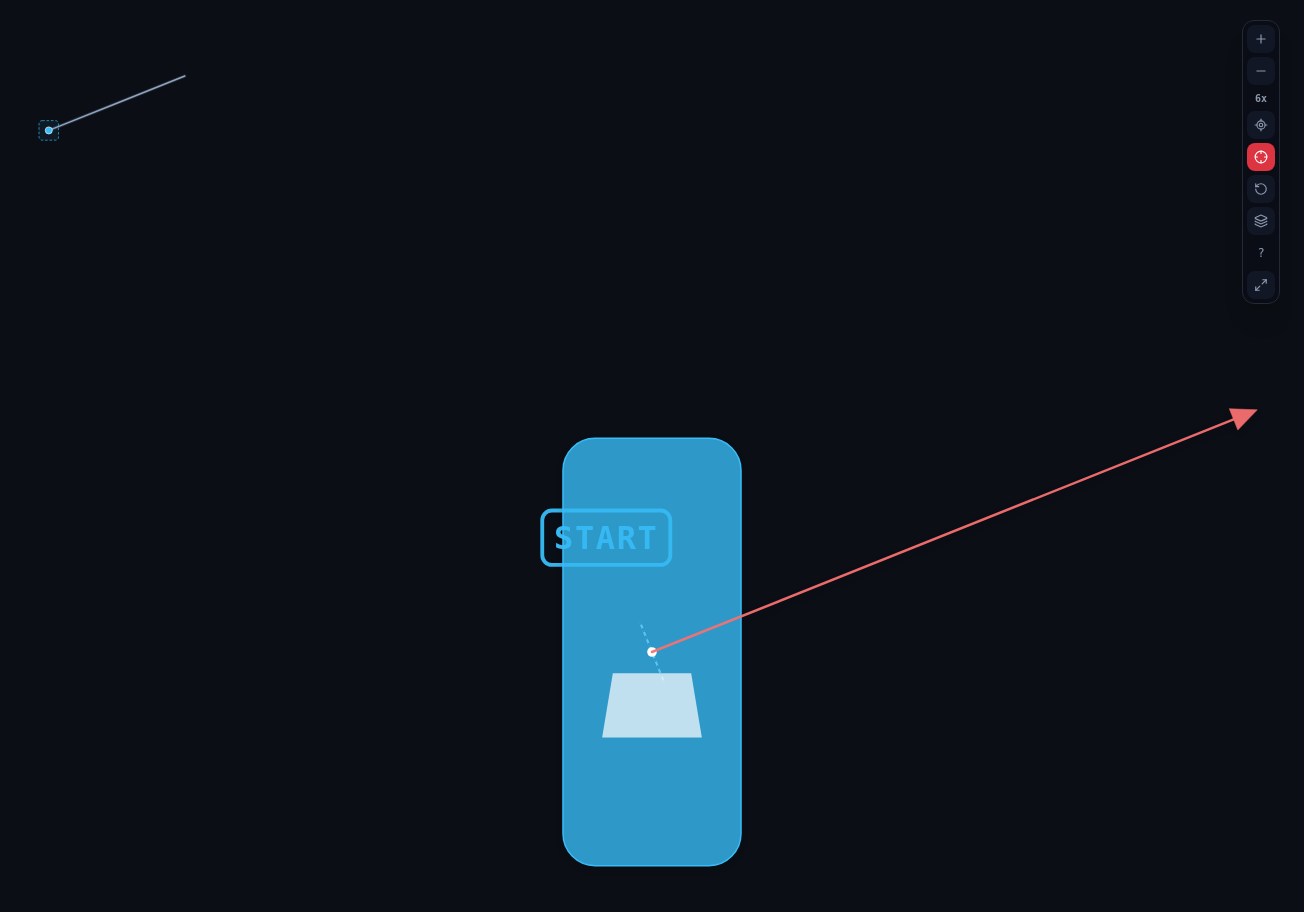
Test: GPS map display layers › keys only the runoff kinds the layout has
The image size is (1304, 912).
Click the button named "Layers": x=1261, y=221 1247,207 -> 1275,235
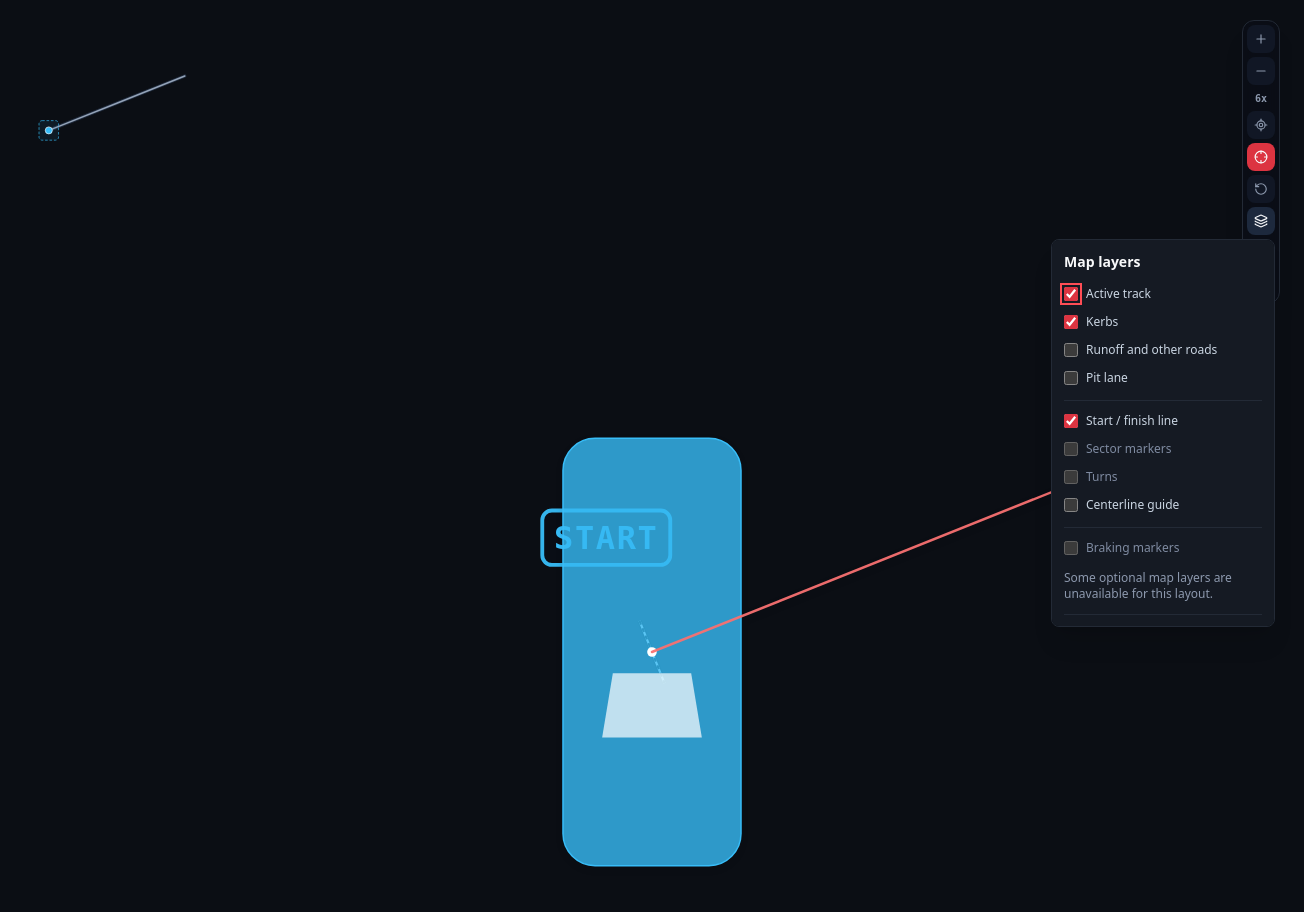
Click the checkbox labelled "Runoff and other roads": x=1071, y=350 1064,343 -> 1078,357
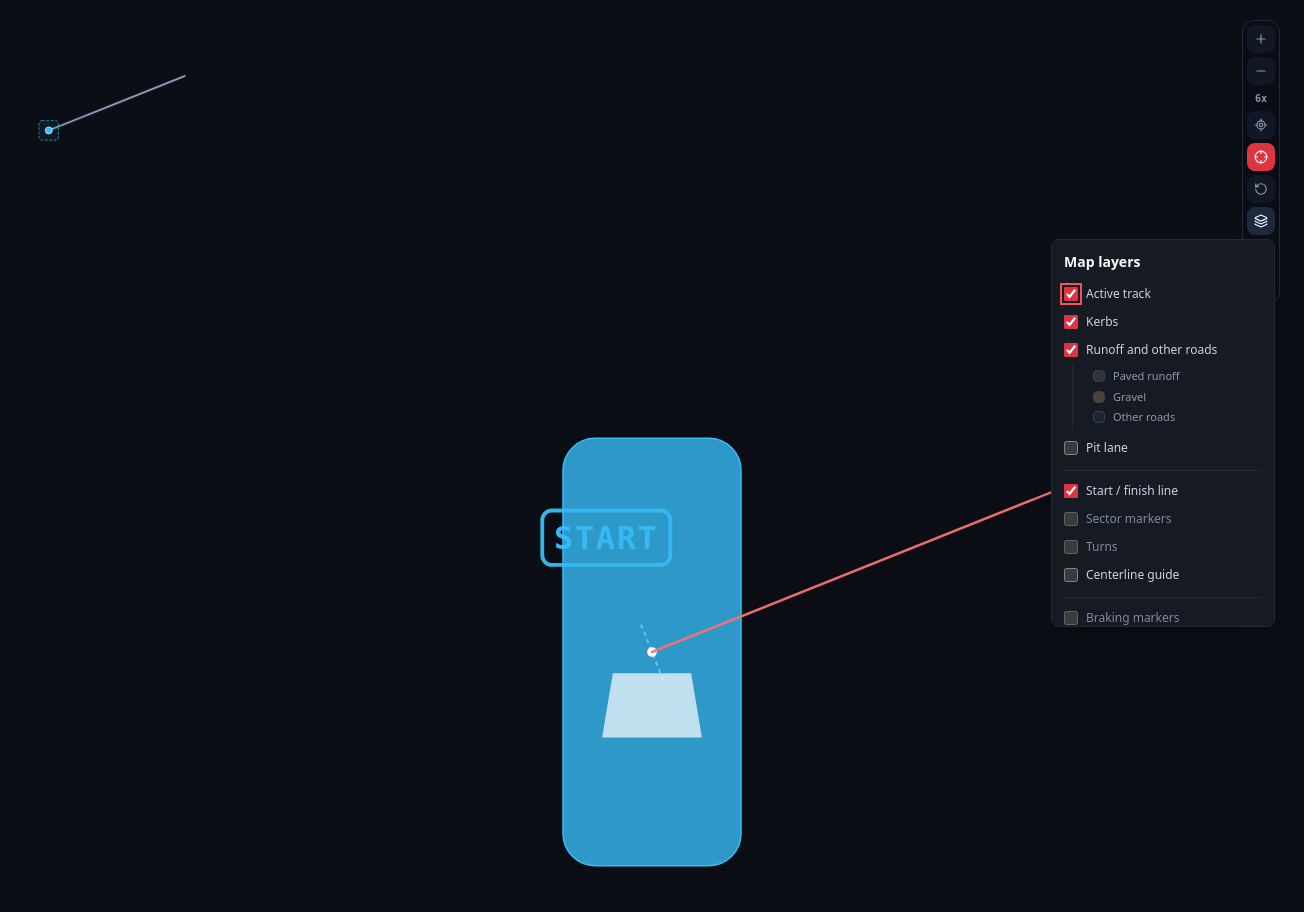
Check: the list items read "Paved runoff", "Gravel", "Other roads", in this order, box 1093,368 -> 1180,383; 1093,388 -> 1146,404; 1093,409 -> 1175,424
